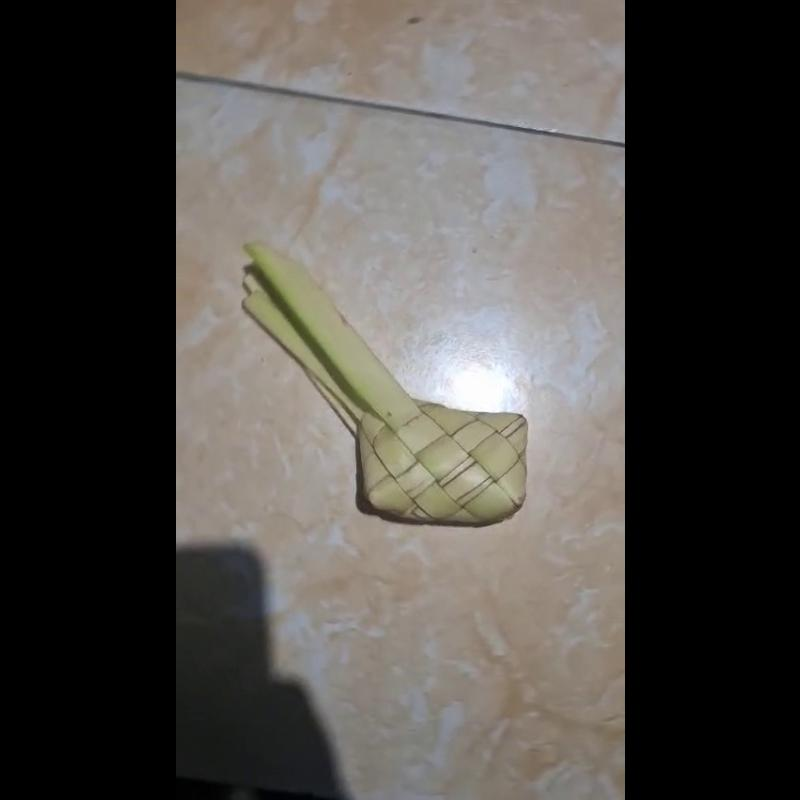Tipat Bantal: (236, 236, 532, 531)
